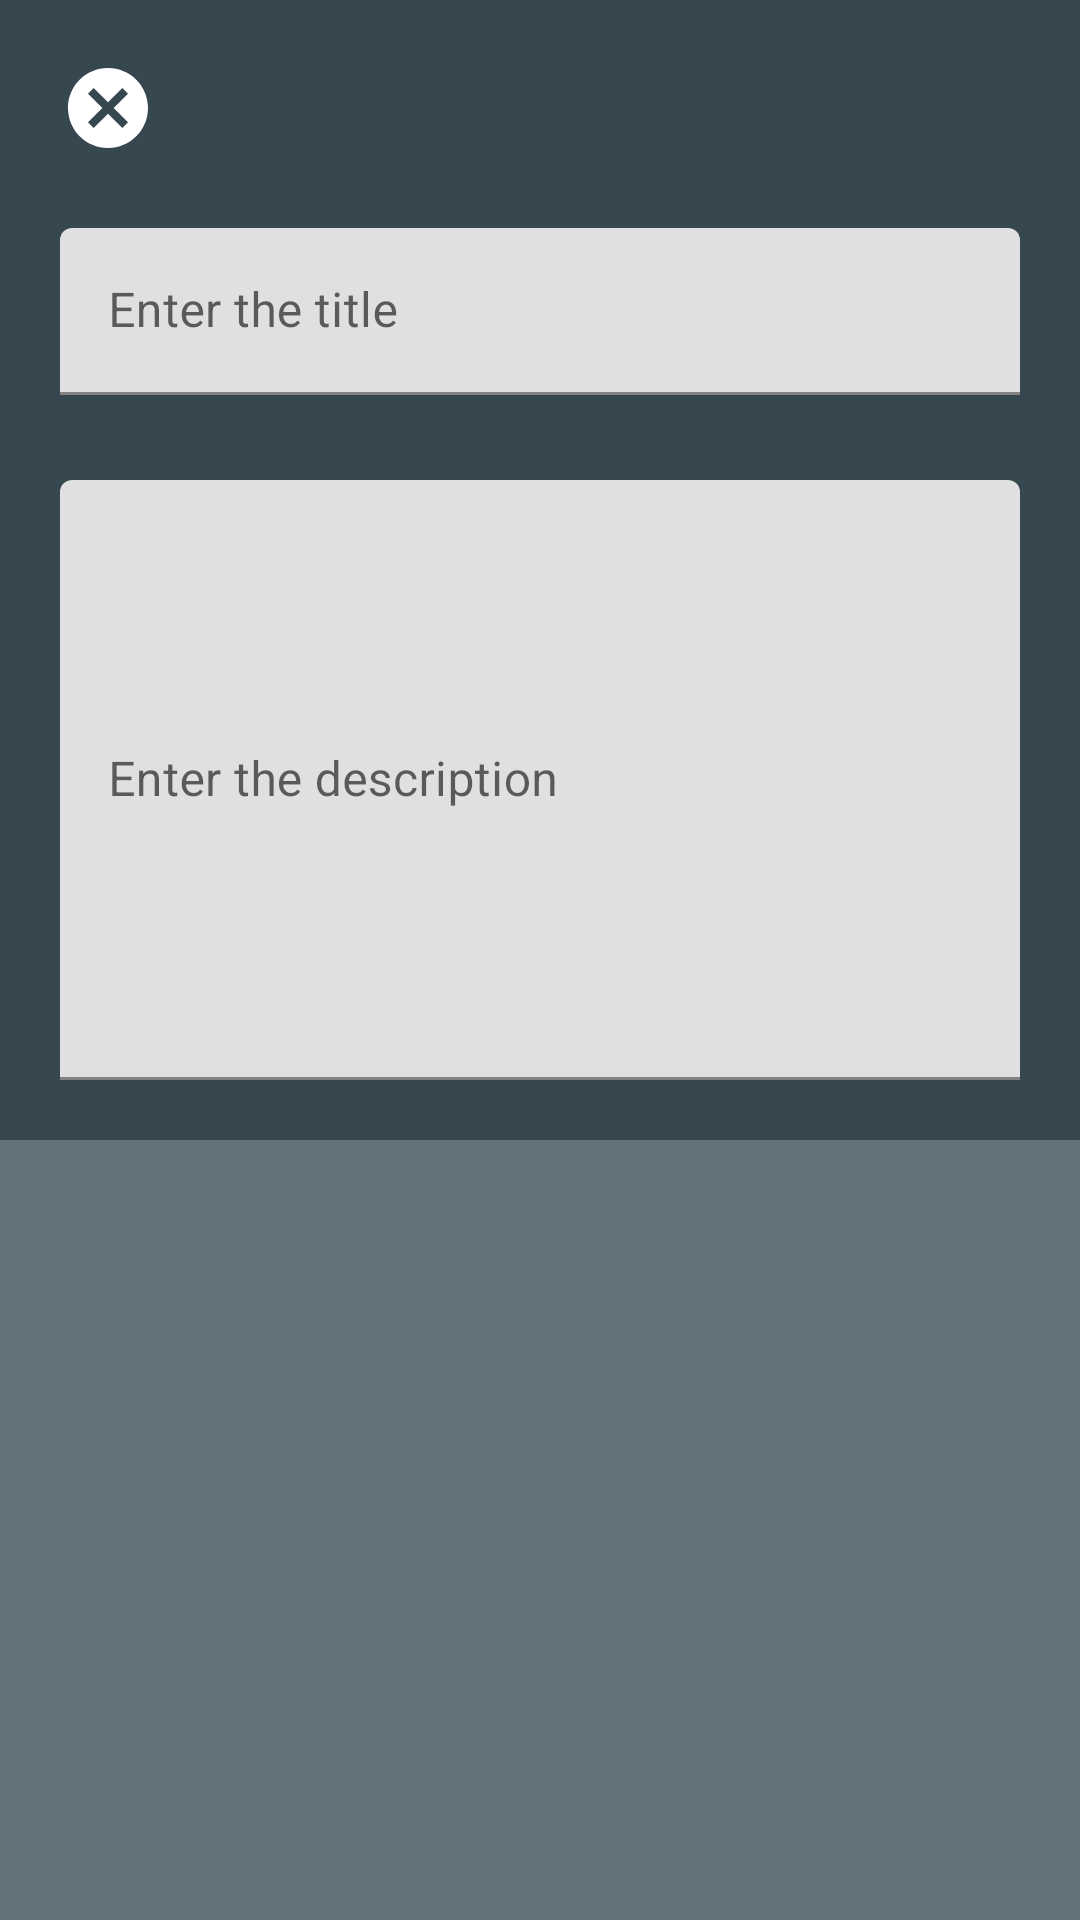

Screen size 1080 x 1920. Icon name, then its center in pixels as (x,y):
cancel: (108,108)
